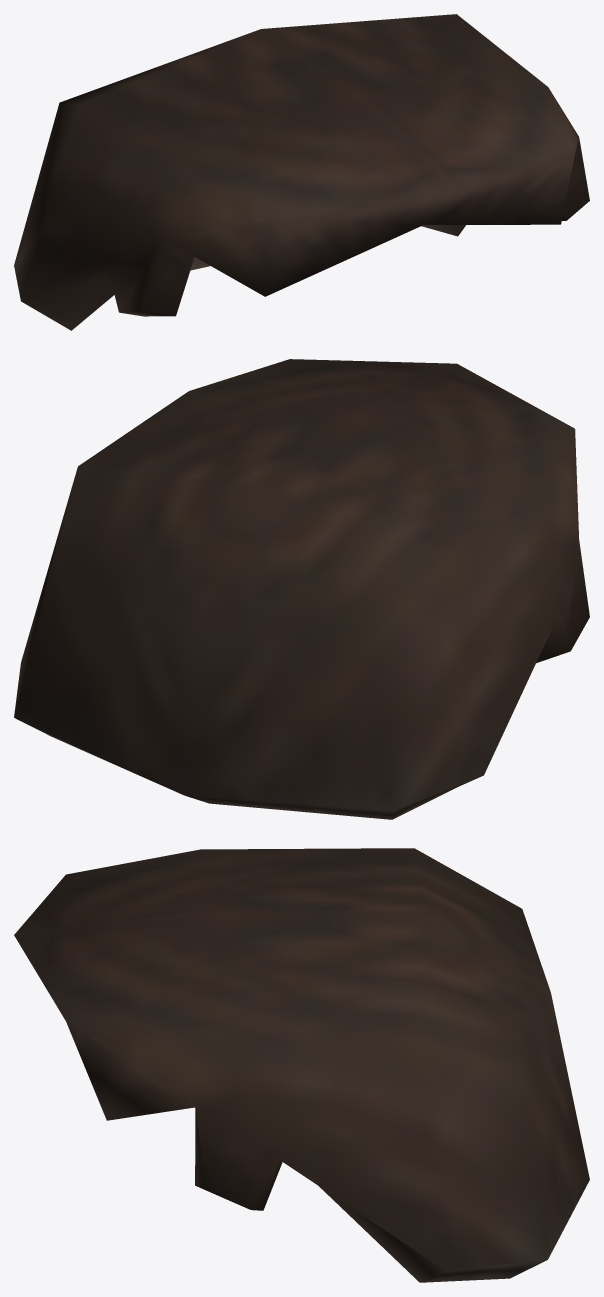
File: hair_male_02.fbx
The picture shows the model from 3 angles, top to bottom: view 1: azimuth 30°, elevation 25°; view 2: azimuth 150°, elevation 25°; view 3: azimuth 270°, elevation 25°; orthographic projection. The views are drawn at different scales.
Parts seen in each view (by area): view 1: hair_male_02; view 2: hair_male_02; view 3: hair_male_02.
Boxes of the visible parts, x1,y1,x2,y2 form: hair_male_02: [14, 14, 589, 330]; hair_male_02: [14, 359, 589, 819]; hair_male_02: [14, 848, 589, 1282].
Bounding box in the file's own units: 6.72 × 3.87 × 6.87.
